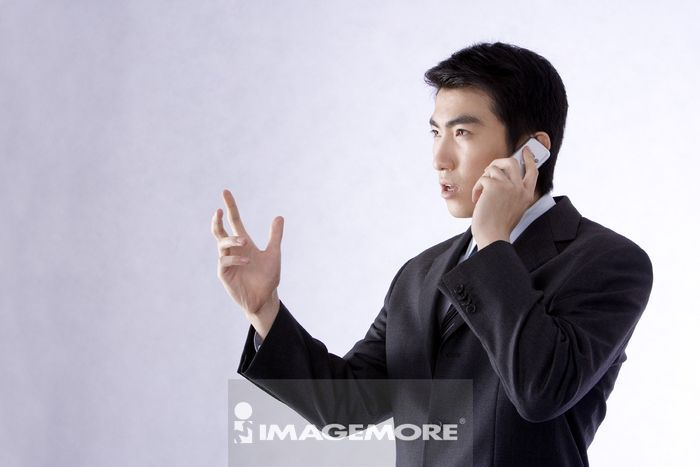talk: (426, 110, 552, 245)
